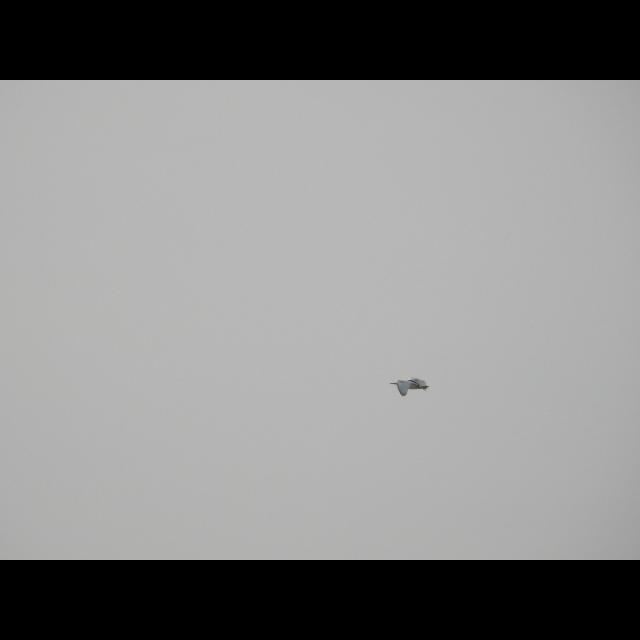egret: (385, 373, 441, 403)
